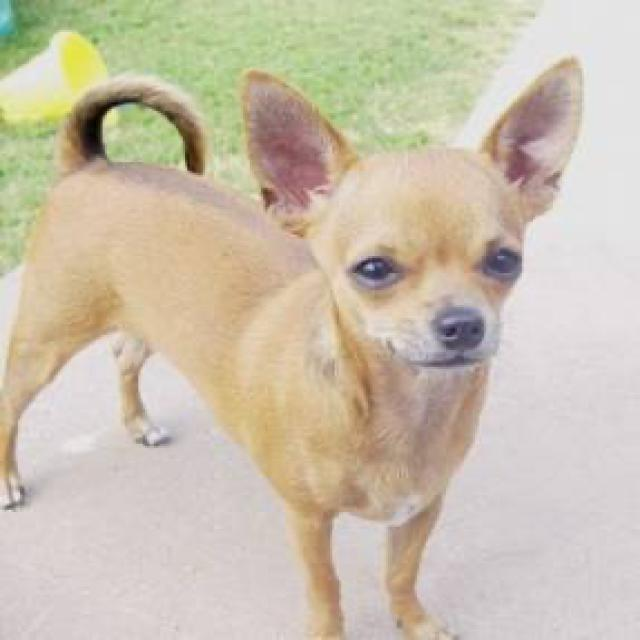dog: (241, 56, 577, 376)
